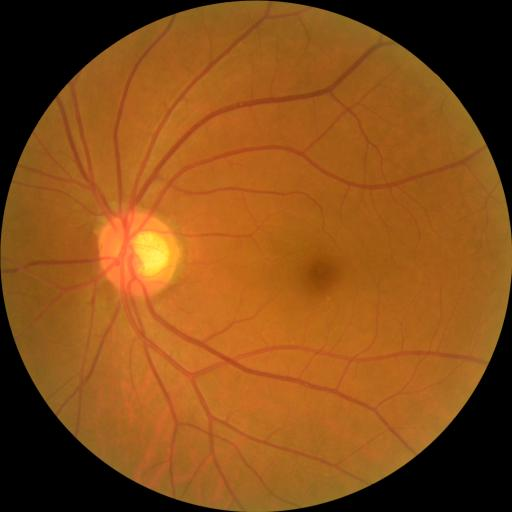Optic Cup: (126, 232, 169, 277)
Optic Disc: (97, 214, 179, 298)
